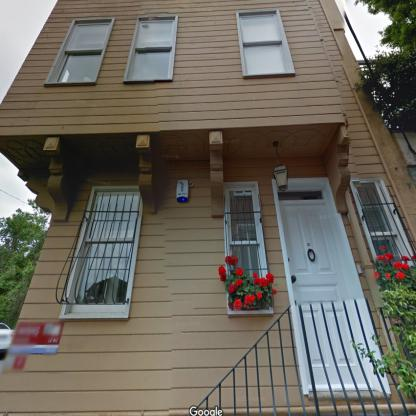door: (279, 203, 366, 380)
window: (75, 193, 139, 305), (356, 187, 403, 259), (55, 22, 110, 82), (228, 190, 262, 278), (240, 15, 286, 73), (132, 19, 173, 78), (278, 190, 323, 200)
